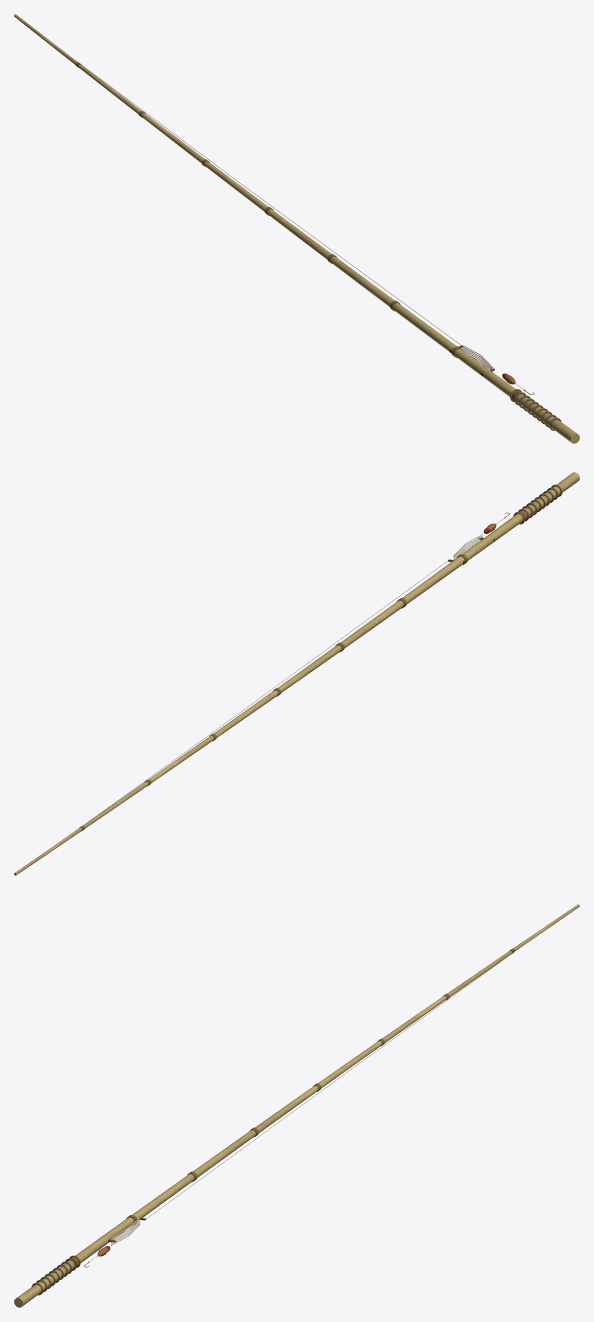
The model's file is rod_reed.glb.
The picture shows the model from 3 angles, top to bottom: view 1: azimuth 30°, elevation 25°; view 2: azimuth 150°, elevation 25°; view 3: azimuth 330°, elevation 25°; orthographic projection. The views are drawn at different scales.
Visible parts, largest first — view 1: rod_reed; view 2: rod_reed; view 3: rod_reed.
Boxes of the visible parts, x1,y1,x2,y2 form: rod_reed: (14,14,579,443); rod_reed: (14,472,579,875); rod_reed: (14,904,579,1307).
Size of the model in its own units: 0.0652 by 0.0354 by 2.9.
Materials: 1 (1 with a texture image).
